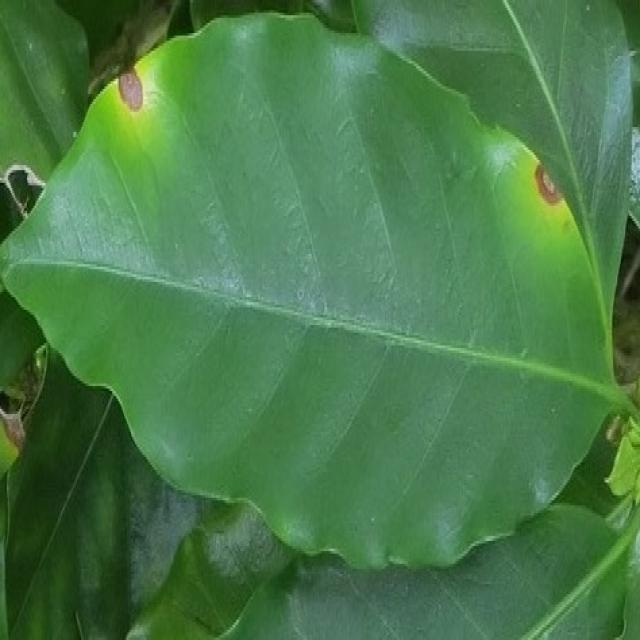Enfermedad-Mancha-de-hierro: (5, 13, 625, 569)
